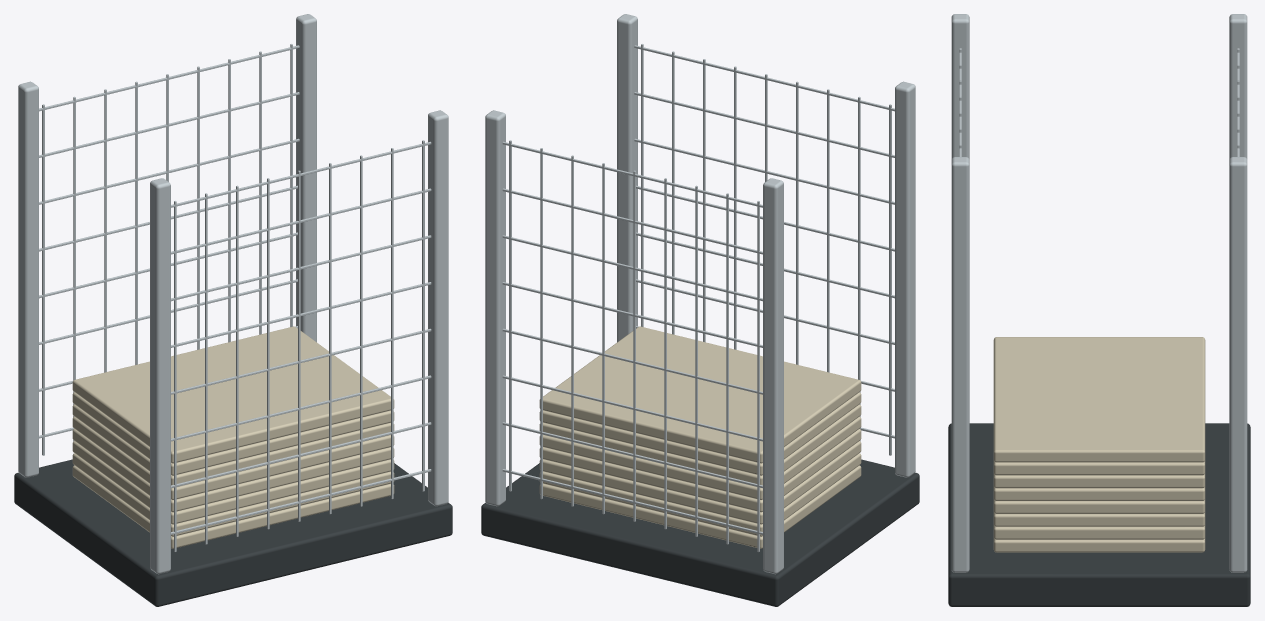
The model's file is recycling-centre-and-material-sorting-paper-storage-ca-925bebe0__31134.glb.
3 views of the same model, side by side, from view 1: azimuth 30°, elevation 25°; view 2: azimuth 150°, elevation 25°; view 3: azimuth 270°, elevation 25° (orthographic). The views are drawn at different scales.
Parts seen in each view (by area): view 1: paper-storage-cage; view 2: paper-storage-cage; view 3: paper-storage-cage.
Boxes of the visible parts, box(x1,y1,x2,y2) form: paper-storage-cage: box(14, 14, 452, 606); paper-storage-cage: box(481, 14, 919, 606); paper-storage-cage: box(948, 14, 1250, 606).
Bounding box in the file's own units: 1.2 × 1.62 × 1.
